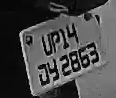1: (59, 27, 69, 51)
2: (59, 53, 72, 77)
3: (87, 41, 99, 64)
4: (66, 21, 81, 45)
6: (78, 44, 91, 72)
8: (68, 48, 81, 71)
D: (35, 63, 51, 86)
P: (50, 28, 61, 53)
U: (39, 33, 53, 56)
Y: (46, 59, 60, 82)
